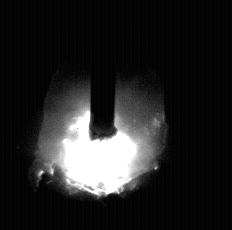arame: (90, 0, 117, 141)
poca: (37, 0, 166, 230)
